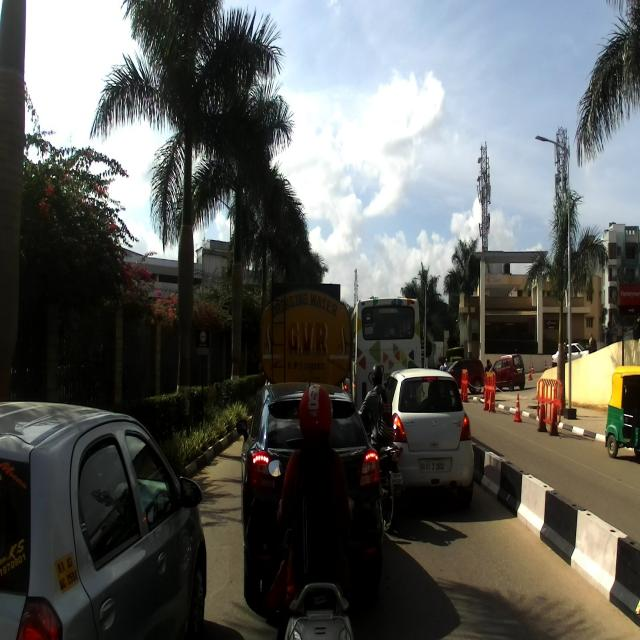car: (0, 400, 207, 640), (235, 362, 384, 622), (384, 368, 476, 519)
motorcycle: (359, 404, 405, 538)
scooter: (267, 459, 358, 638)
